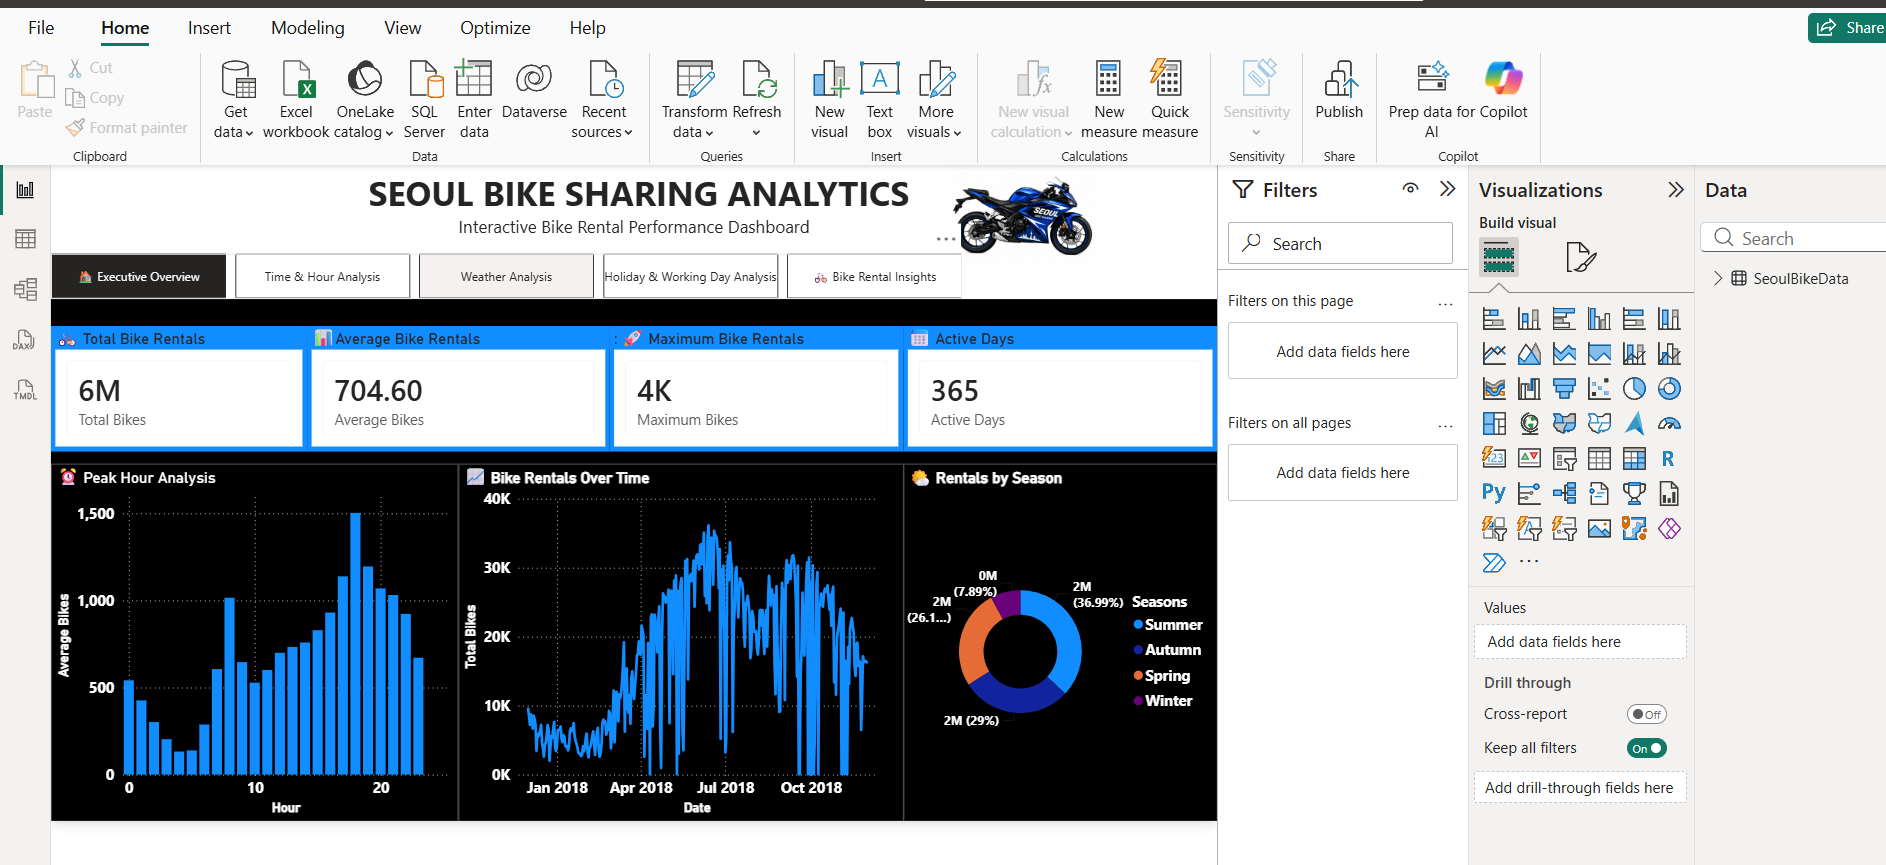

The page's visual inventory and layout, read from the dashboard file:
{"tool":"powerbi","page":{"name":"🏠 Executive Overview","canvas":[1280,720],"ordinal":0},"visuals":[{"type":"textbox","box":[0,0,1280.3,146.8],"z":0},{"type":"cardVisual","title":" 📊Average Bike Rentals","fields":{"Data":["SeoulBikeData.Average Bikes"]},"box":[281.3,177,332.1,137.2],"z":1000},{"type":"cardVisual","title":":  🚀 Maximum Bike Rentals","fields":{"Data":["SeoulBikeData.Maximum Bikes"]},"box":[613.4,177,322.5,137.2],"z":2000},{"type":"cardVisual","title":"📅 Active Days","fields":{"Data":["SeoulBikeData.Active Days"]},"box":[935.9,177,344.4,137.2],"z":3000},{"type":"lineClusteredColumnComboChart","title":"⏰ Peak Hour Analysis","fields":{"Category":["SeoulBikeData.Hour"],"Y":["SeoulBikeData.Average Bikes"]},"box":[0,328,447.3,392.5],"z":4000},{"type":"image","box":[922.1,0,290.9,108.4],"z":5000},{"type":"lineChart","title":"📈 Bike Rentals Over Time","fields":{"Y":["SeoulBikeData.Total Bikes"],"Category":["SeoulBikeData.Date"]},"box":[447.3,328,488.5,392.5],"z":6000},{"type":"donutChart","title":"🌤️ Rentals by Season","fields":{"Category":["SeoulBikeData.Seasons"],"Y":["SeoulBikeData.Total Bikes"]},"box":[935.9,328,344.4,392.5],"z":7000},{"type":"cardVisual","title":"🚲 Total Bike Rentals","fields":{"Data":["SeoulBikeData.Total Bikes"]},"box":[0,177,281.3,137.2],"z":8000},{"type":"pageNavigator","box":[0,97.4,1000.3,49.4],"z":8001}]}

Visuals, with their boxes on the page's 1280x720 design canvas (x1, y1, x2, y2). These are canvas units, not pixel positions in the 1886x865 screenshot, which may show the page scaled, cropped or inside an application window:
textbox: (x1=0, y1=0, x2=1280, y2=147)
" 📊Average Bike Rentals" cardVisual: (x1=281, y1=177, x2=613, y2=314)
":  🚀 Maximum Bike Rentals" cardVisual: (x1=613, y1=177, x2=936, y2=314)
"📅 Active Days" cardVisual: (x1=936, y1=177, x2=1280, y2=314)
"⏰ Peak Hour Analysis" lineClusteredColumnComboChart: (x1=0, y1=328, x2=447, y2=720)
image: (x1=922, y1=0, x2=1213, y2=108)
"📈 Bike Rentals Over Time" lineChart: (x1=447, y1=328, x2=936, y2=720)
"🌤️ Rentals by Season" donutChart: (x1=936, y1=328, x2=1280, y2=720)
"🚲 Total Bike Rentals" cardVisual: (x1=0, y1=177, x2=281, y2=314)
pageNavigator: (x1=0, y1=97, x2=1000, y2=147)
